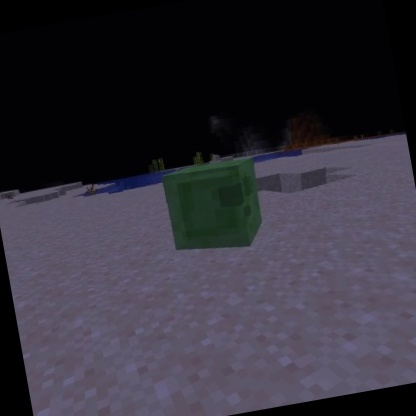slime: (157, 152, 273, 263)
